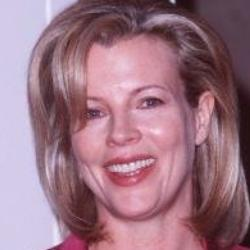face: (19, 5, 249, 239)
